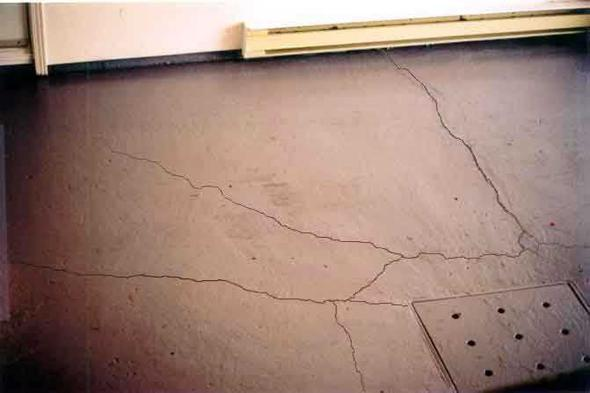crack: (21, 54, 590, 393)
